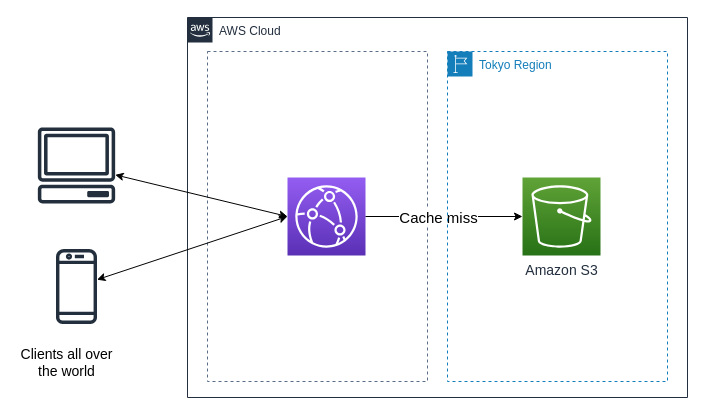
Some shapes in this 705 by 415 pixel diagram are drawn without their labels. The box of each missing label's shape, as (x1, y1, x2, y2) in pixels:
Amazon CloudFront: (286, 176, 366, 256)
Edge Locations nearest to the clients: (206, 50, 428, 382)
